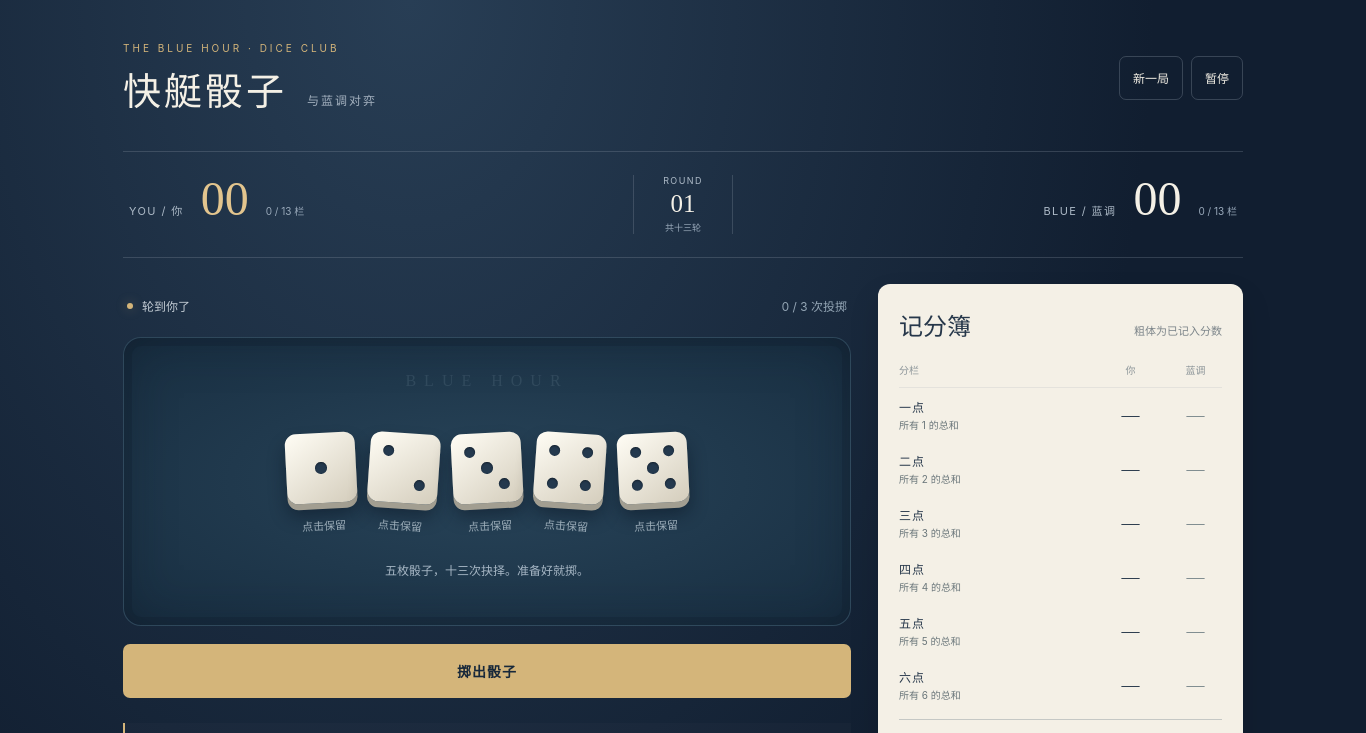
interaction safety › zero needs confirmation, cancel and Escape retain the card
The width and height of the screenshot is (1366, 733).
Click the button "掷出骰子": (487, 671) [123, 644, 851, 698]
Wait 400 ms
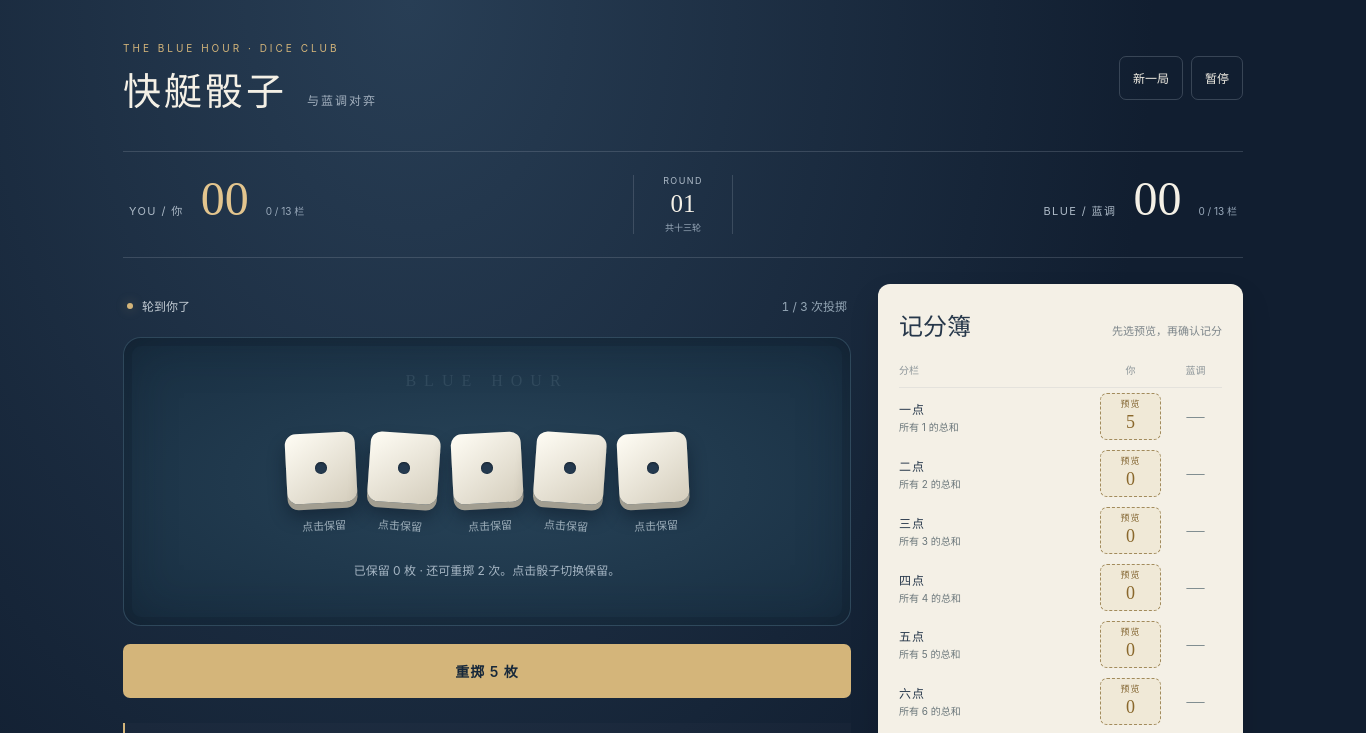
Click the button with aria-label "二点，记入 0 分": (1130, 474) [1100, 450, 1161, 497]
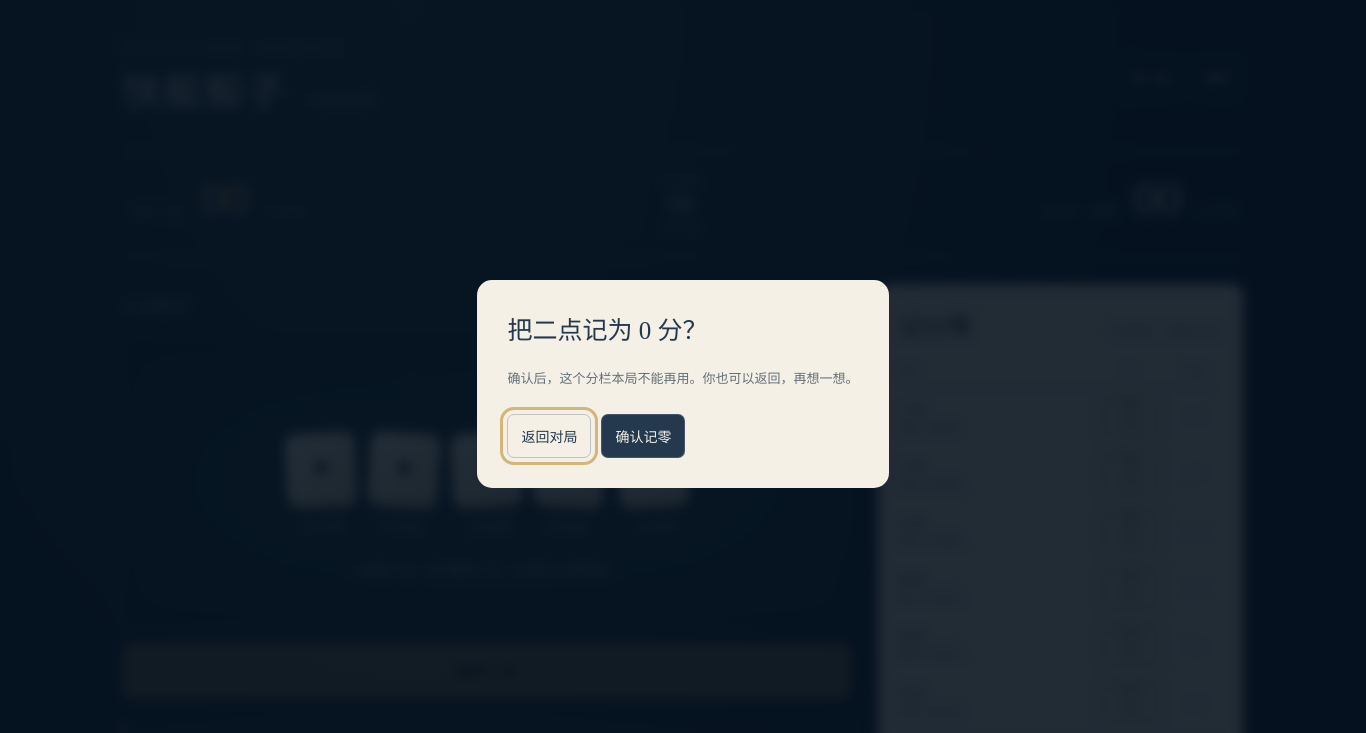
Expected: the dialog is shown, [478, 280, 888, 488]
Press Escape
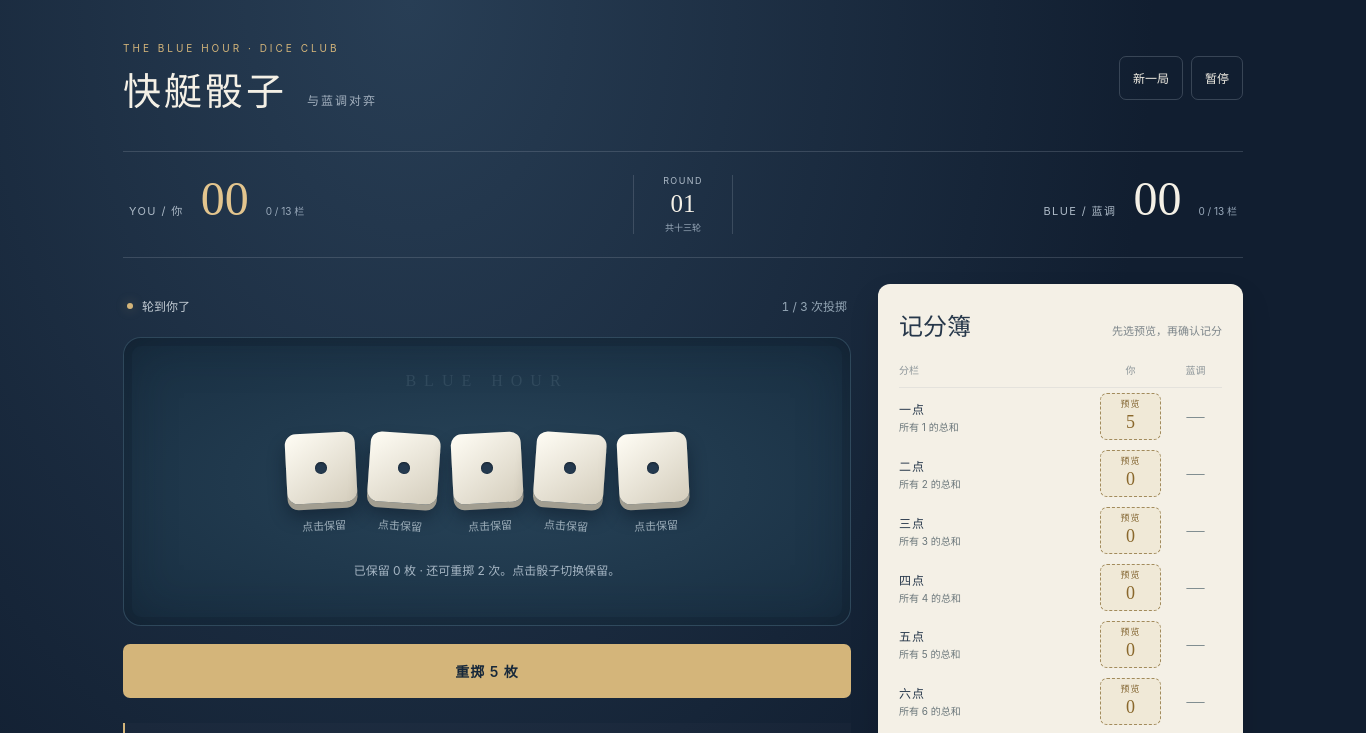
Expected: the dialog is gone
Click the button with aria-label "二点，记入 0 分": (1130, 474) [1100, 450, 1161, 497]
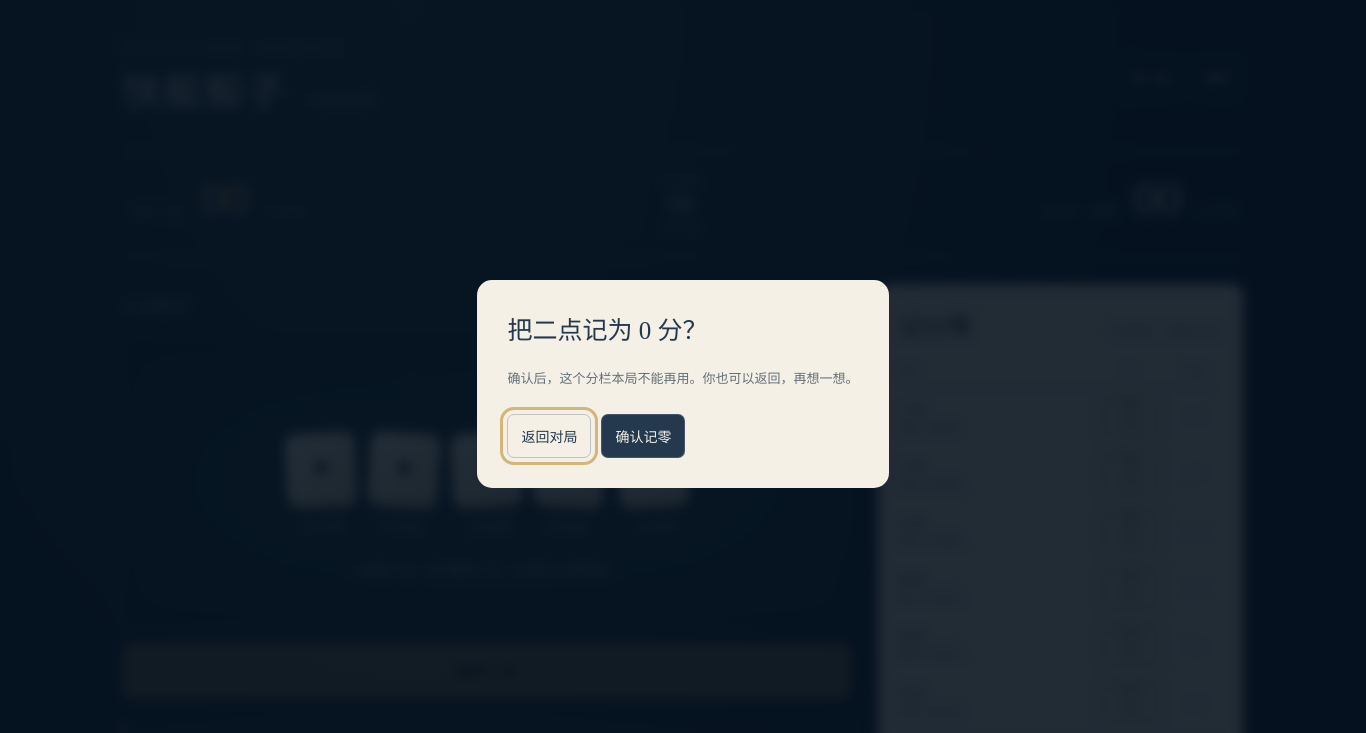
Click the button "确认记零": (644, 436) [602, 414, 686, 458]
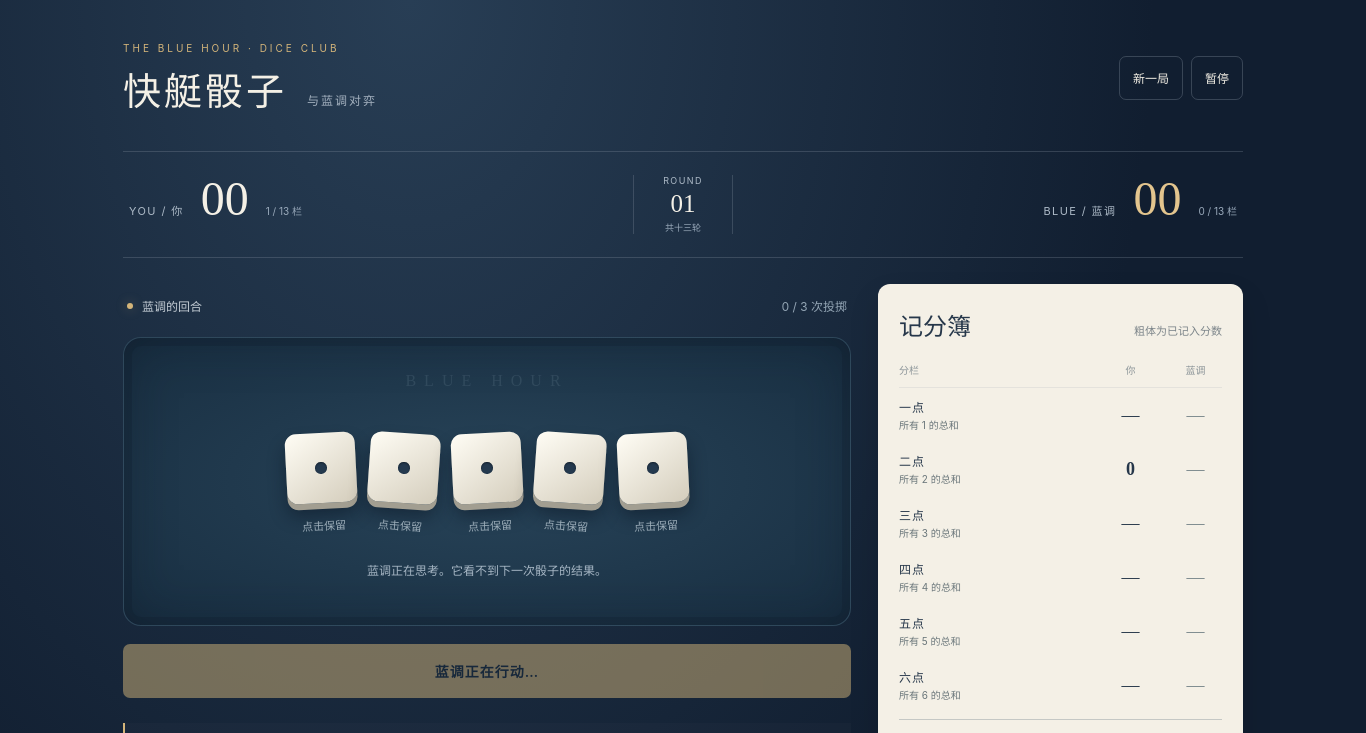
Expected: the text "蓝调的回合" is shown, [142, 297, 202, 314]
